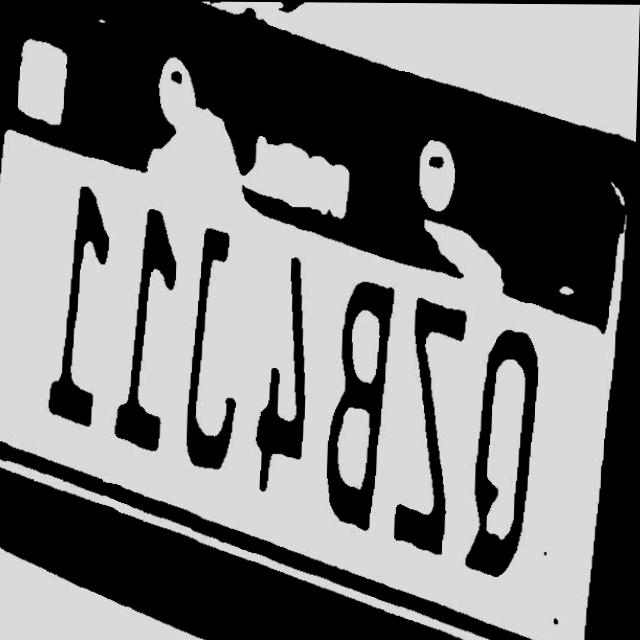1: (41, 173, 115, 433), (113, 203, 184, 454)
4: (252, 247, 324, 513)
b: (319, 273, 402, 538)
j: (181, 223, 251, 485)
q: (458, 325, 548, 580)
z: (385, 289, 474, 560)
